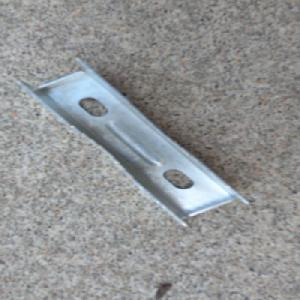ClampPart: (14, 56, 250, 227)
